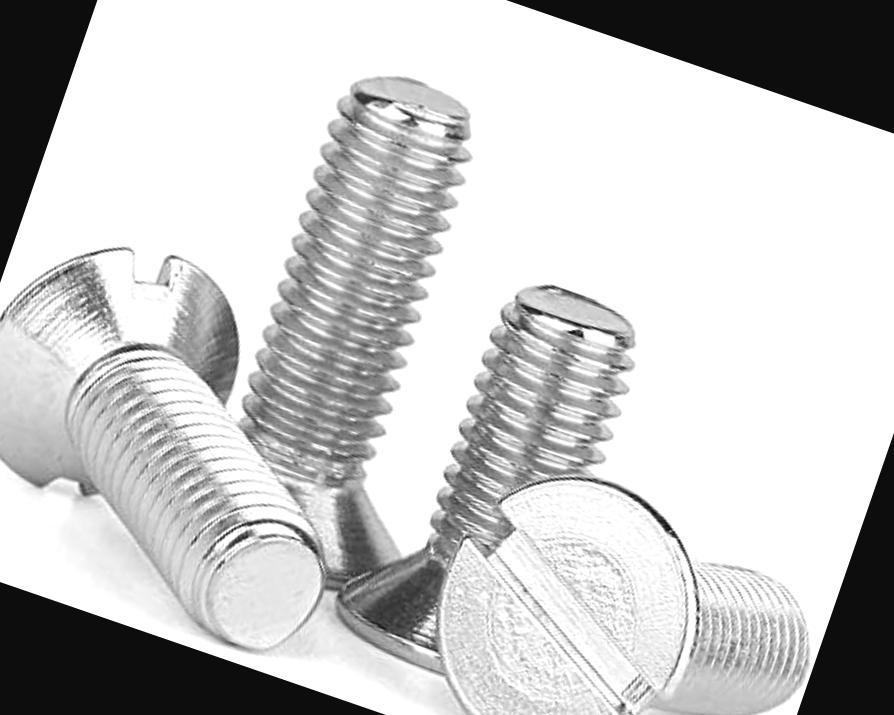slotted: (398, 436, 730, 715)
